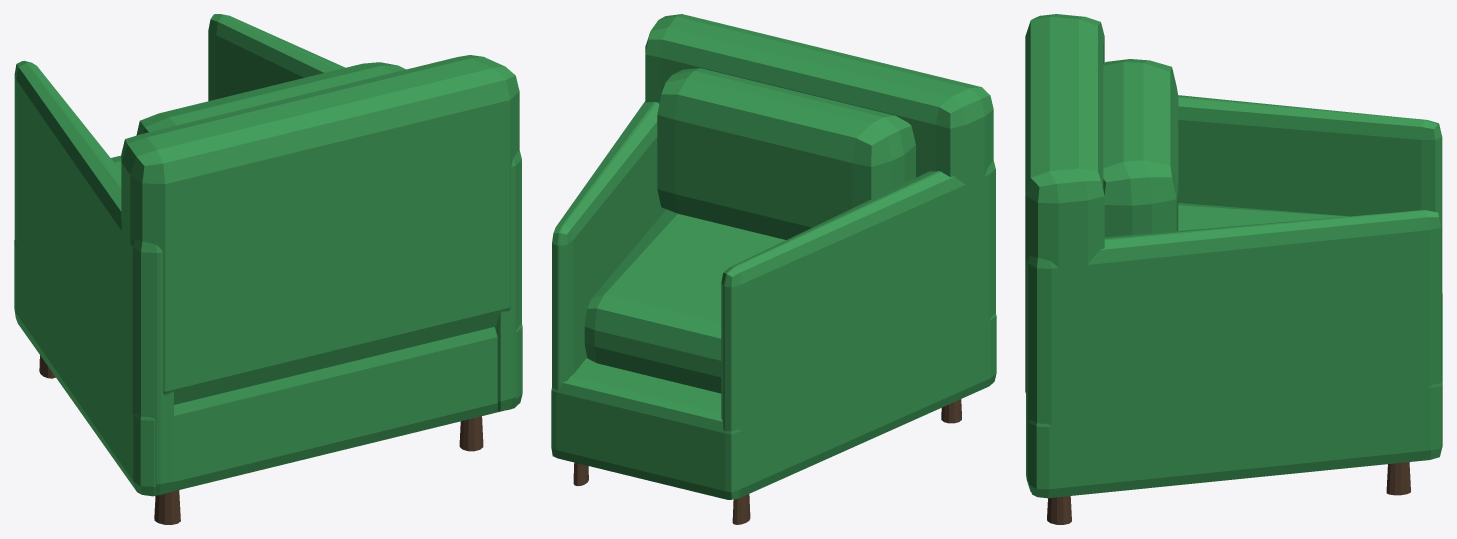
Rendered from factory-armchair.meshopt.glb.
3 renders of one model, left to right at view 1: azimuth 30°, elevation 25°; view 2: azimuth 150°, elevation 25°; view 3: azimuth 270°, elevation 25°, orthographic. The views are drawn at different scales.
Parts seen in each view (by area): view 1: obj:rc-12-armchair_green; view 2: obj:rc-12-armchair_green; view 3: obj:rc-12-armchair_green.
Part boxes in pixels (left/top/right/bottom): obj:rc-12-armchair_green: left=14, top=14, right=522, bottom=524; obj:rc-12-armchair_green: left=551, top=14, right=996, bottom=524; obj:rc-12-armchair_green: left=1025, top=14, right=1442, bottom=524.
Bounding box in the file's own units: 0.85 × 0.8 × 0.85.
